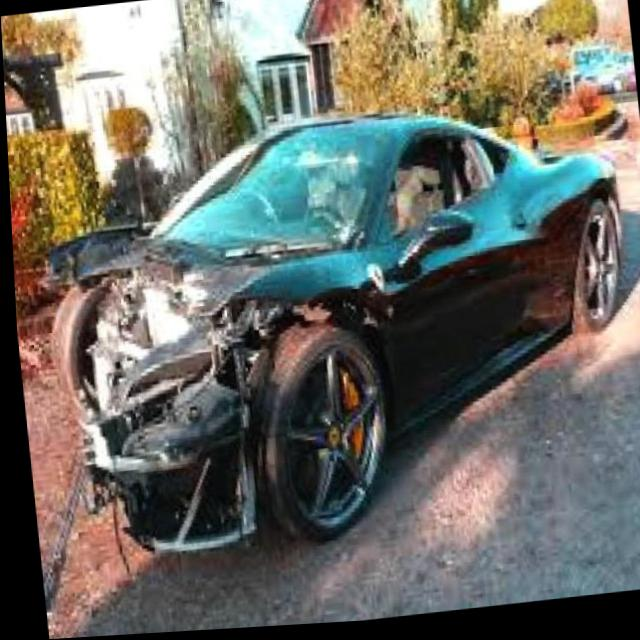Car-Damage: (41, 197, 391, 575)
